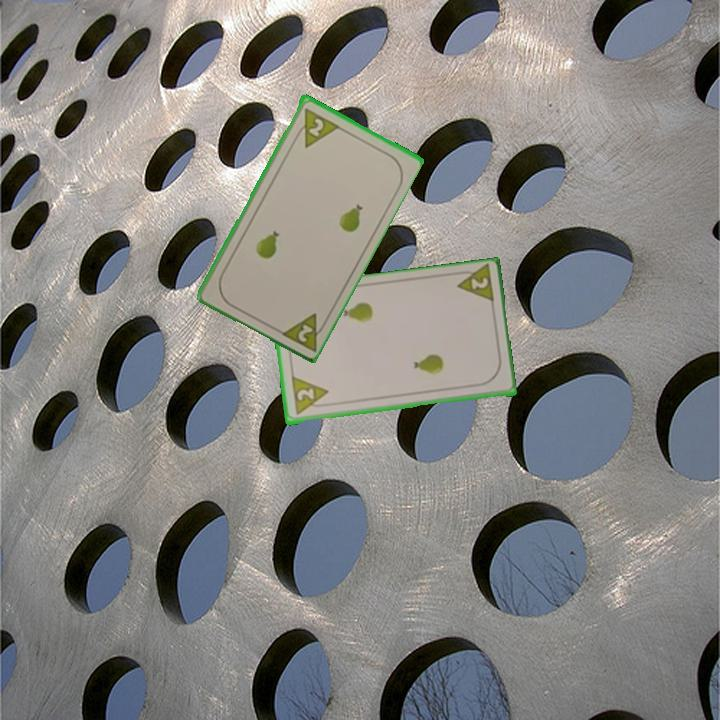2p: (276, 309, 331, 354), (451, 263, 497, 307), (288, 375, 332, 418), (304, 114, 327, 139)
